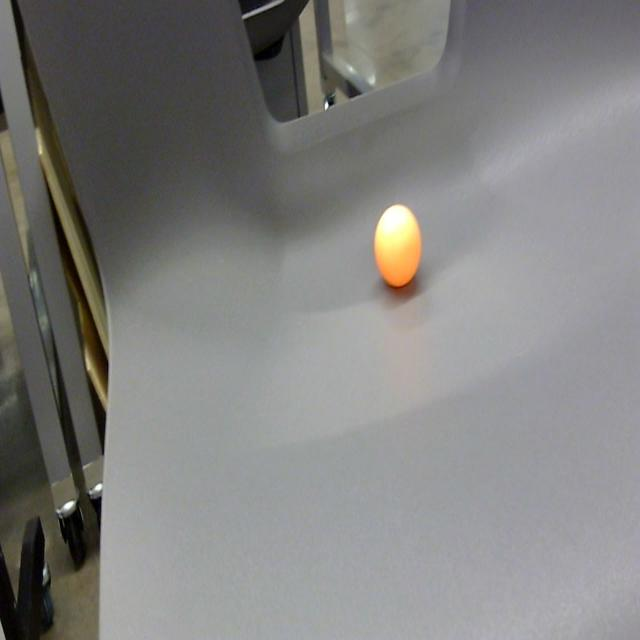ball: (372, 200, 427, 292)
